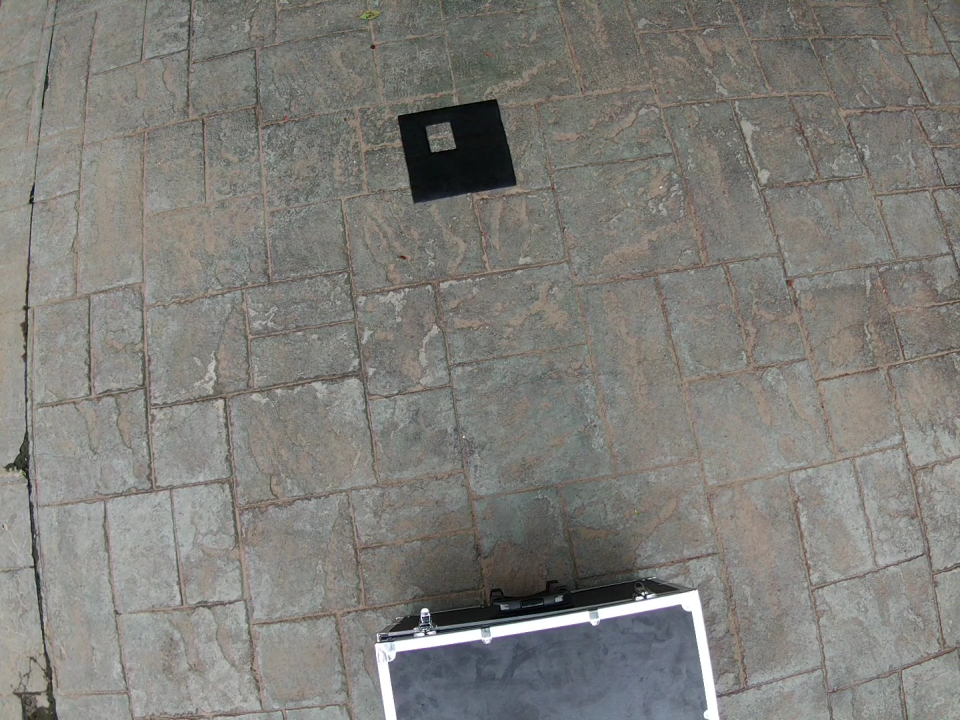box: (375, 577, 723, 720)
qrcode: (398, 99, 516, 203)
